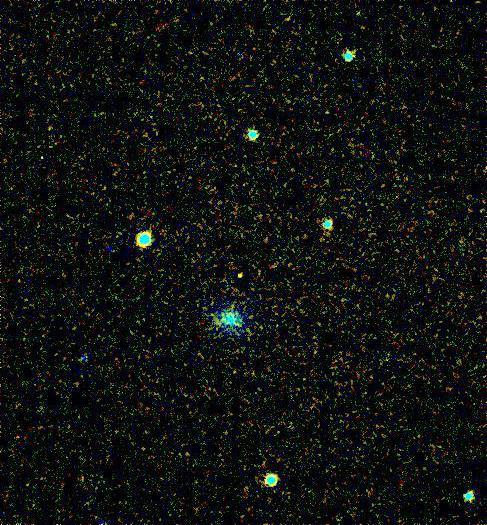star: (224, 260, 254, 290)
